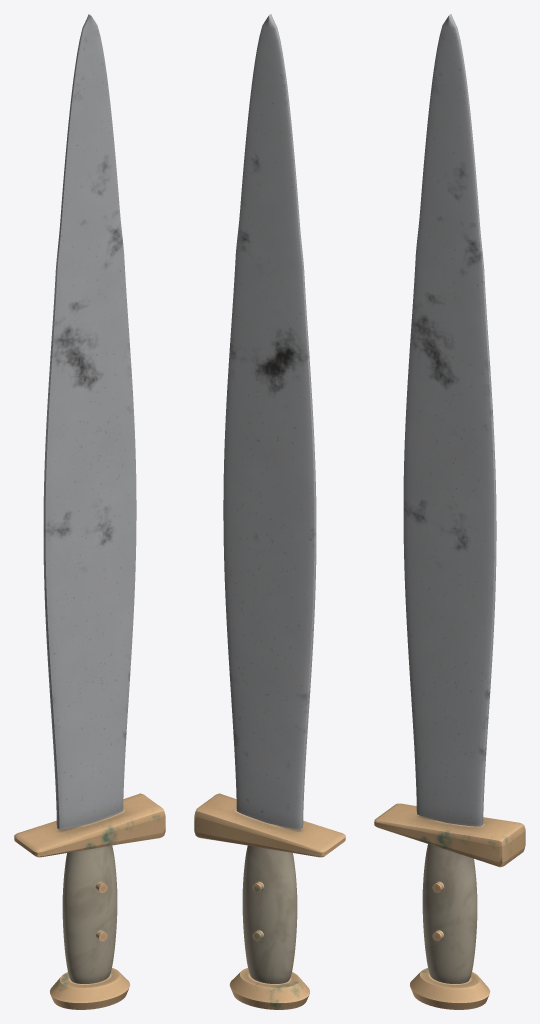
File: xiphos.glb
3 renders of one model, left to right at view 1: azimuth 30°, elevation 25°; view 2: azimuth 150°, elevation 25°; view 3: azimuth 330°, elevation 25°, orthographic.
Visible parts, largest first — view 1: xiphos; view 2: xiphos; view 3: xiphos.
Boxes of the visible parts, x1=… form: xiphos: x1=14, y1=14, x2=165, y2=1009; xiphos: x1=194, y1=14, x2=345, y2=1009; xiphos: x1=374, y1=14, x2=525, y2=1009.
Bounding box in the file's own units: 0.085 × 0.609 × 0.036.
1 material, 1 textured.
